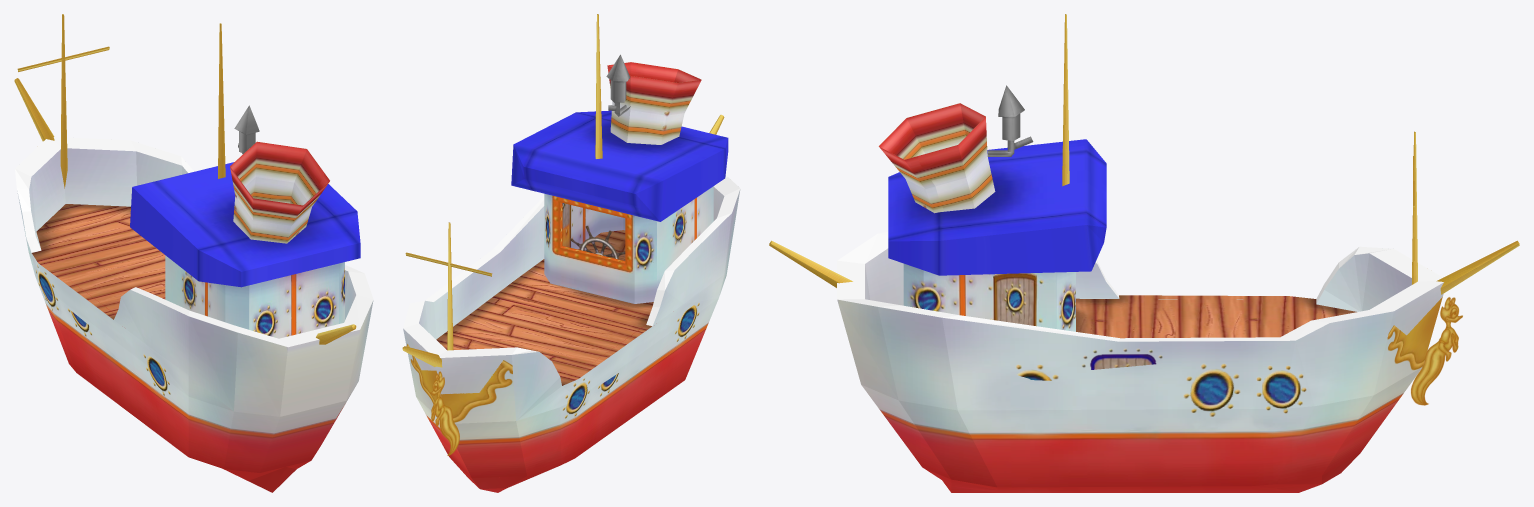
The model's file is DonaldsBoat-transformed.glb.
3 renders of one model, left to right at view 1: azimuth 30°, elevation 25°; view 2: azimuth 150°, elevation 25°; view 3: azimuth 270°, elevation 25°, orthographic. The views are drawn at different scales.
Visible parts, largest first — view 1: above_water_Shader11_0, wheel_house_roof_Shader12_0, ground_Shader2_0, wheel_house_steam_pipe_Shader13_0, o3_lambert9_0, wheel_house_walls_exterior_Shader6_0, wheel_house_walls_exterior_Shader9_0, above_water_Shader14_0, decals_Shader_0, below_water_Shader10_0, boat_whistle_Shader5_0; view 2: above_water_Shader11_0, wheel_house_roof_Shader12_0, ground_Shader2_0, wheel_house_steam_pipe_Shader13_0, wheel_house_front_wall_Shader1_0, o3_lambert9_0, wheel_house_walls_exterior_Shader9_0, wheel_house_walls_exterior_Shader7_0, above_water_Shader14_0, decals_Shader16_0, wheel_house_walls_exterior_Shader8_0, decals_Shader_0 (+4 smaller); view 3: above_water_Shader11_0, wheel_house_roof_Shader12_0, ground_Shader2_0, wheel_house_steam_pipe_Shader13_0, wheel_house_walls_exterior_Shader8_0, o3_lambert9_0, decals_Shader_0, above_water_Shader14_0, below_water_Shader10_0, above_water_Shader15_0, decals_Shader16_0, boat_whistle_Shader5_0 (+2 smaller).
Part boxes in pixels (<box>): above_water_Shader11_0: <box>17,148,373,472</box>; wheel_house_roof_Shader12_0: <box>130,162,360,287</box>; ground_Shader2_0: <box>32,204,165,319</box>; wheel_house_steam_pipe_Shader13_0: <box>230,141,329,243</box>; o3_lambert9_0: <box>15,137,373,347</box>; wheel_house_walls_exterior_Shader6_0: <box>249,263,338,338</box>; wheel_house_walls_exterior_Shader9_0: <box>165,255,249,329</box>; above_water_Shader14_0: <box>14,14,356,344</box>; decals_Shader_0: <box>35,264,170,395</box>; below_water_Shader10_0: <box>223,460,310,492</box>; boat_whistle_Shader5_0: <box>234,105,259,154</box>; above_water_Shader11_0: <box>403,187,740,478</box>; wheel_house_roof_Shader12_0: <box>511,110,728,221</box>; ground_Shader2_0: <box>436,230,653,385</box>; wheel_house_steam_pipe_Shader13_0: <box>607,62,701,144</box>; wheel_house_front_wall_Shader1_0: <box>550,195,634,303</box>; o3_lambert9_0: <box>403,176,740,357</box>; wheel_house_walls_exterior_Shader9_0: <box>657,186,713,289</box>; wheel_house_walls_exterior_Shader7_0: <box>544,193,656,303</box>; above_water_Shader14_0: <box>402,14,724,367</box>; decals_Shader16_0: <box>406,344,512,422</box>; wheel_house_walls_exterior_Shader8_0: <box>562,203,623,249</box>; decals_Shader_0: <box>562,302,699,418</box>; above_water_Shader11_0: <box>837,248,1443,487</box>; wheel_house_roof_Shader12_0: <box>888,139,1106,275</box>; ground_Shader2_0: <box>1076,295,1356,338</box>; wheel_house_steam_pipe_Shader13_0: <box>878,103,995,213</box>; wheel_house_walls_exterior_Shader8_0: <box>903,263,1056,328</box>; o3_lambert9_0: <box>837,232,1443,341</box>; decals_Shader_0: <box>1015,363,1306,416</box>; above_water_Shader14_0: <box>769,14,1519,294</box>; below_water_Shader10_0: <box>923,454,1359,492</box>; above_water_Shader15_0: <box>1411,297,1462,405</box>; decals_Shader16_0: <box>1387,297,1442,370</box>; boat_whistle_Shader5_0: <box>987,85,1033,156</box>.
Bounding box in the file's own units: 0.1139 × 0.2671 × 0.3802.
Materials: 19 (18 with a texture image).
